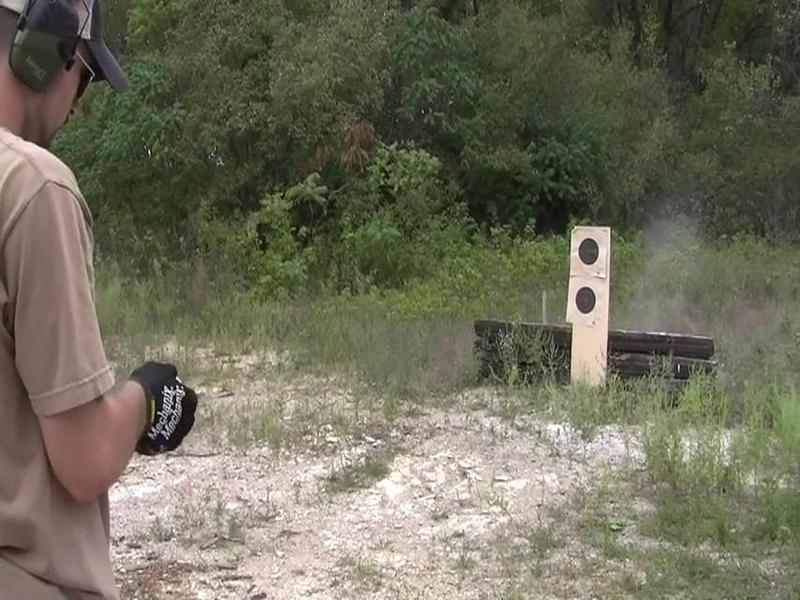Revolver: (170, 367, 188, 394)
